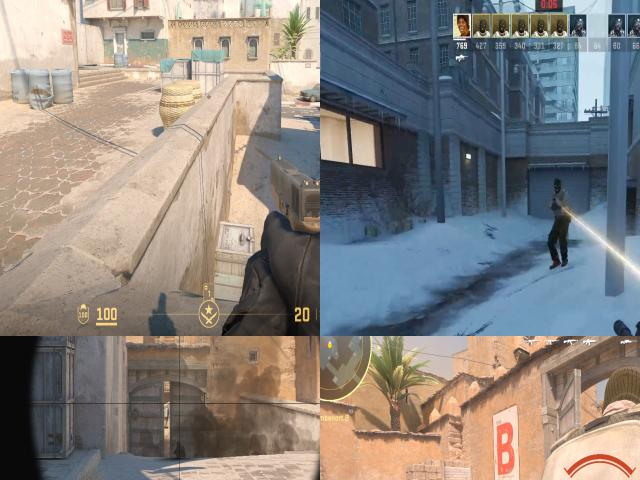CT: (175, 442, 187, 460)
CT-Head: (177, 441, 180, 446)
T: (527, 366, 640, 480), (548, 167, 574, 231)
T-Head: (600, 366, 640, 414), (550, 175, 568, 195)
